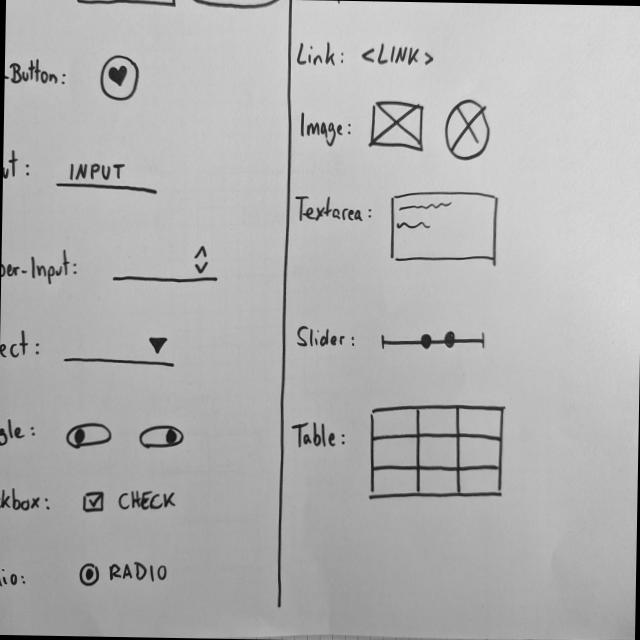button: (74, 0, 178, 11), (183, 0, 287, 11)
checkbox: (81, 484, 180, 516)
icon-button: (98, 52, 140, 102)
image: (442, 94, 492, 164), (370, 96, 424, 156)
input: (55, 154, 162, 199)
link: (358, 39, 438, 68)
number-input: (108, 240, 220, 286)
radio: (78, 557, 170, 589)
select: (61, 330, 177, 370)
slider: (376, 326, 490, 356)
table: (367, 398, 508, 506)
textarea: (387, 185, 502, 267)
toggle: (62, 418, 112, 450), (137, 421, 187, 452)
